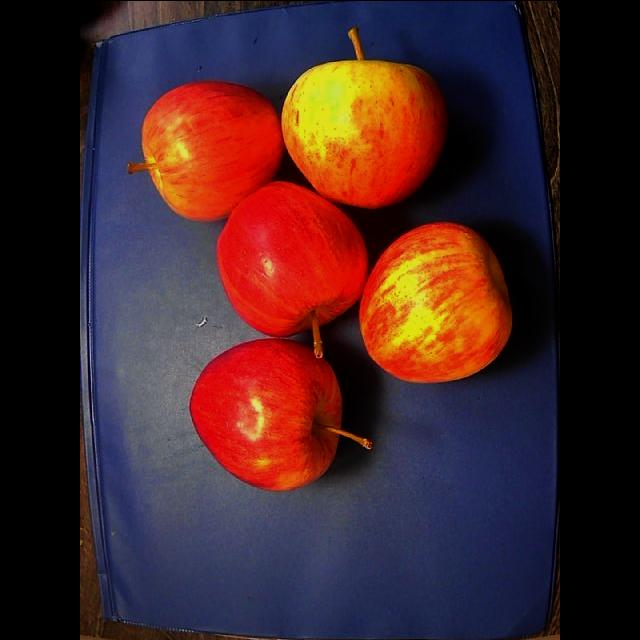manzana: (281, 28, 447, 208), (190, 338, 372, 490), (217, 181, 367, 357), (359, 222, 511, 382), (127, 81, 283, 221)
